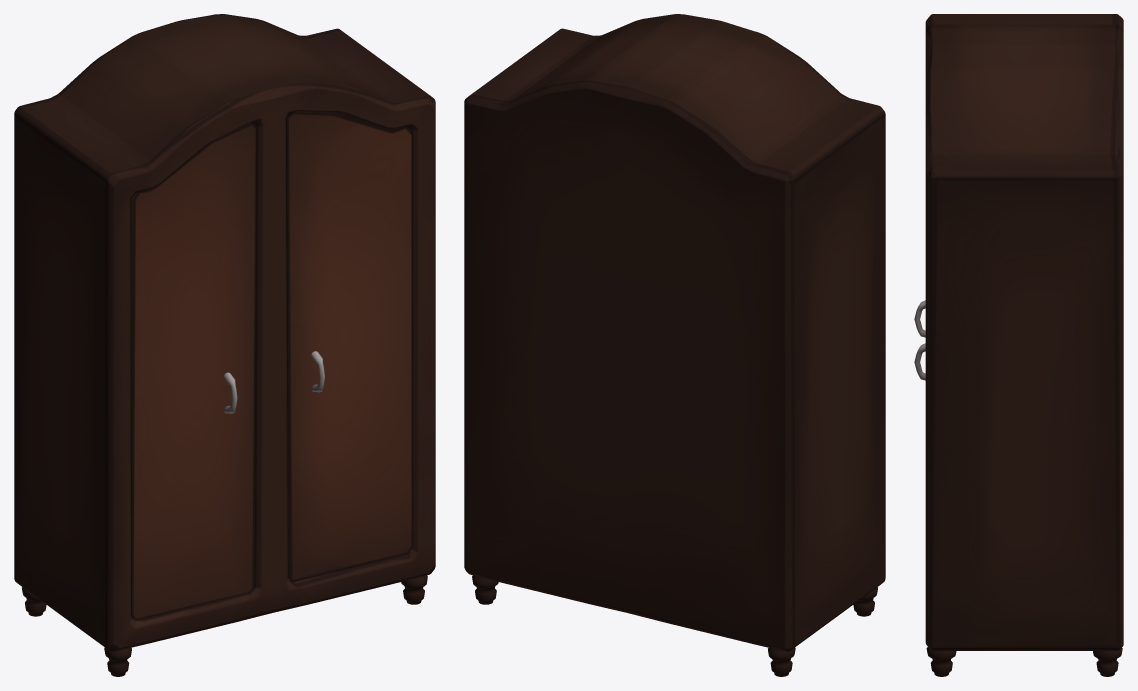
Rendered from Wardrobe.fbx.
3 renders of one model, left to right at view 1: azimuth 30°, elevation 25°; view 2: azimuth 150°, elevation 25°; view 3: azimuth 270°, elevation 25°, orthographic.
Visible parts, largest first — view 1: Wardrobe, Left_Door, Right_Door; view 2: Wardrobe; view 3: Wardrobe.
Part boxes in pixels (x1,y1,x2,y2): Wardrobe: (14, 14, 435, 676); Left_Door: (286, 112, 411, 581); Right_Door: (131, 123, 256, 619); Wardrobe: (464, 14, 885, 676); Wardrobe: (925, 14, 1123, 676).
Size of the model in its own units: 2.71 by 4.35 by 1.48.
